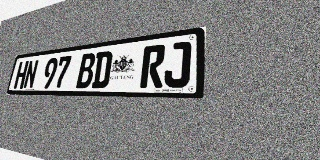7: (53, 56, 72, 88)
9: (41, 57, 59, 89)
B: (76, 53, 96, 88)
D: (91, 50, 113, 88)
H: (13, 61, 29, 89)
J: (163, 41, 192, 88)
N: (23, 60, 39, 89)
R: (140, 44, 166, 88)
